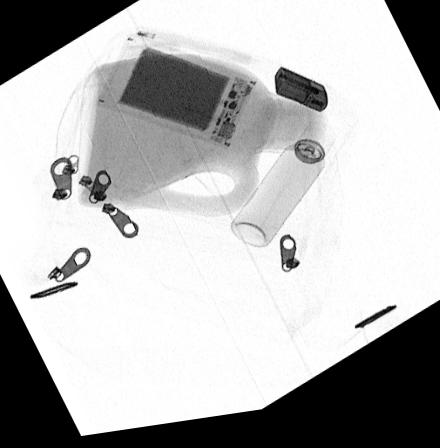Lighter: (274, 73, 328, 121)
Powerbank: (95, 36, 258, 156)
Sprayer: (230, 130, 337, 254)
